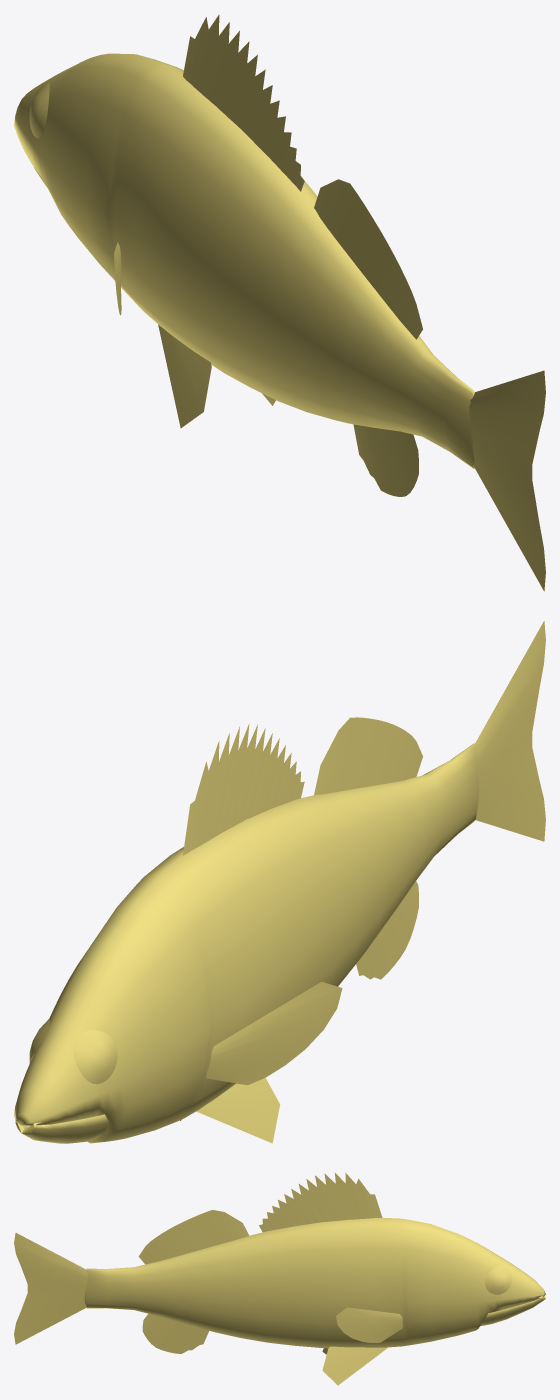
File: yellow_perch_game.glb
3 renders of one model, top to bottom at view 1: azimuth 30°, elevation 25°; view 2: azimuth 150°, elevation 25°; view 3: azimuth 270°, elevation 25°, orthographic. The views are drawn at different scales.
Parts seen in each view (by area): view 1: yellow_perch_game; view 2: yellow_perch_game; view 3: yellow_perch_game.
Part boxes in pixels (box(x1,y1,x2,y2)): yellow_perch_game: box(14, 14, 545, 591); yellow_perch_game: box(14, 621, 545, 1143); yellow_perch_game: box(14, 1172, 545, 1385).
Bounding box in the file's own units: 0.0742 × 0.124 × 0.296.
